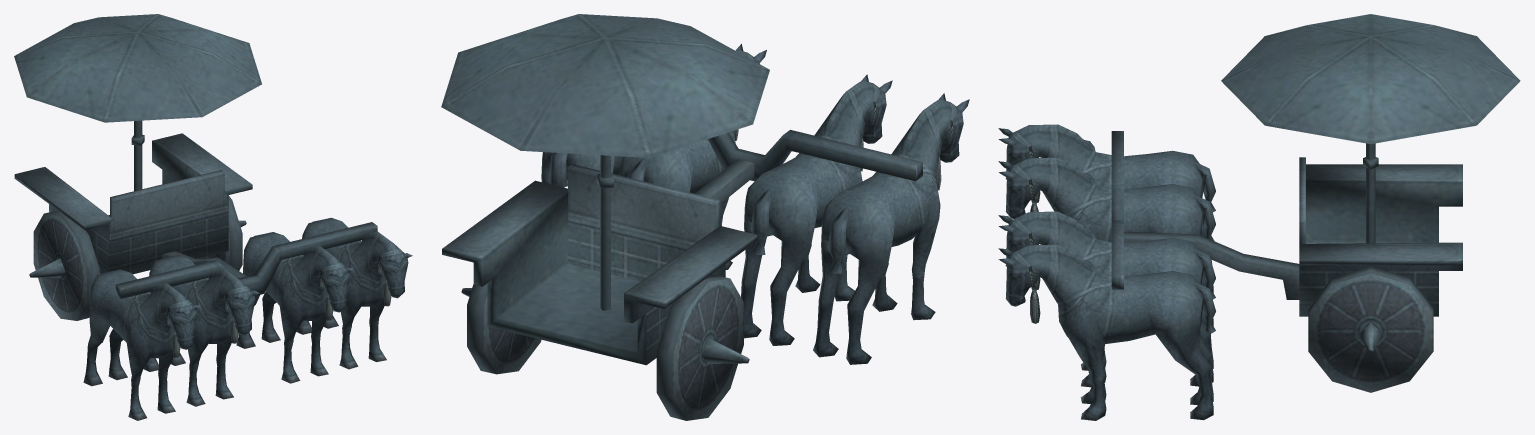
The model's file is Stage_DiXiaCheng_BinMaYong_13.FBX.
3 views of the same model, side by side, from view 1: azimuth 30°, elevation 25°; view 2: azimuth 150°, elevation 25°; view 3: azimuth 270°, elevation 25° (orthographic). The views are drawn at different scales.
Parts seen in each view (by area): view 1: Stage_DiXiaCheng_BinMaYong_13; view 2: Stage_DiXiaCheng_BinMaYong_13; view 3: Stage_DiXiaCheng_BinMaYong_13.
Part boxes in pixels (x1,y1,x2,y2): Stage_DiXiaCheng_BinMaYong_13: (14,14,412,420); Stage_DiXiaCheng_BinMaYong_13: (441,14,969,420); Stage_DiXiaCheng_BinMaYong_13: (998,14,1520,420).
Size of the model in its own units: 365 by 354 by 536.
